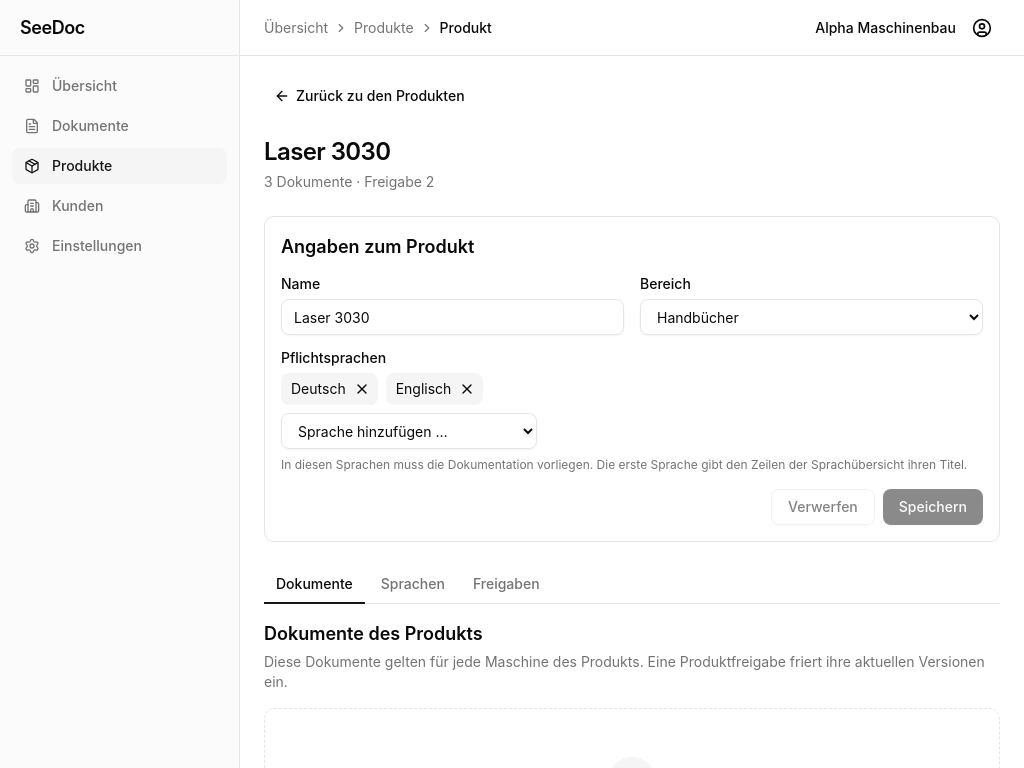
Test: ProductDetailPage › discards what was typed
Replace the text in the field labelled "Name" with "Etwas anderes" at (452, 317), box 281,299 -> 624,335
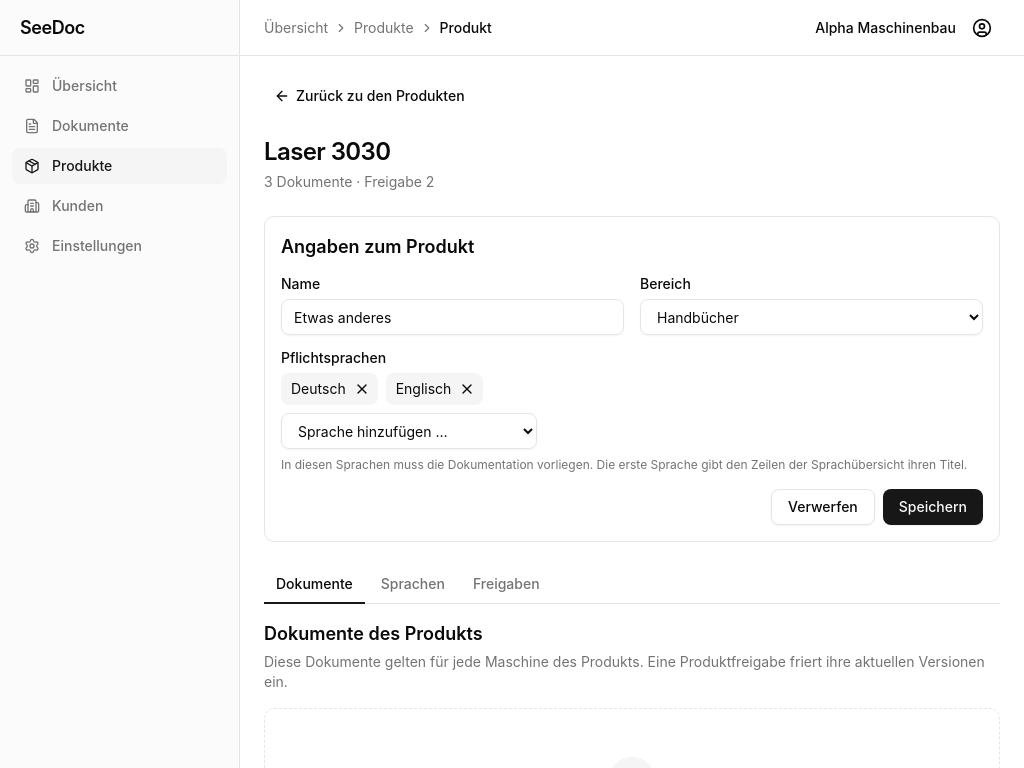
Click the button "Verwerfen".
click(823, 507)  # box 771,489 -> 875,525
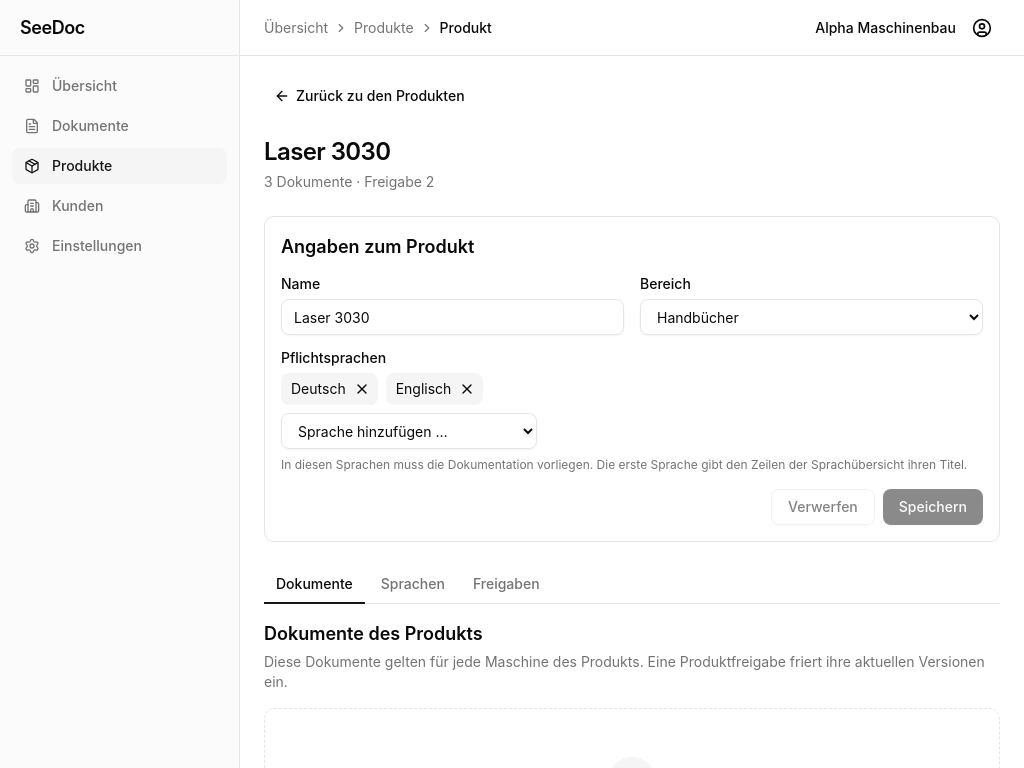
Now the field labelled "Name" holds "Laser 3030", box 281,299 -> 624,335
Now the button "Speichern" is disabled, box 883,489 -> 983,525
